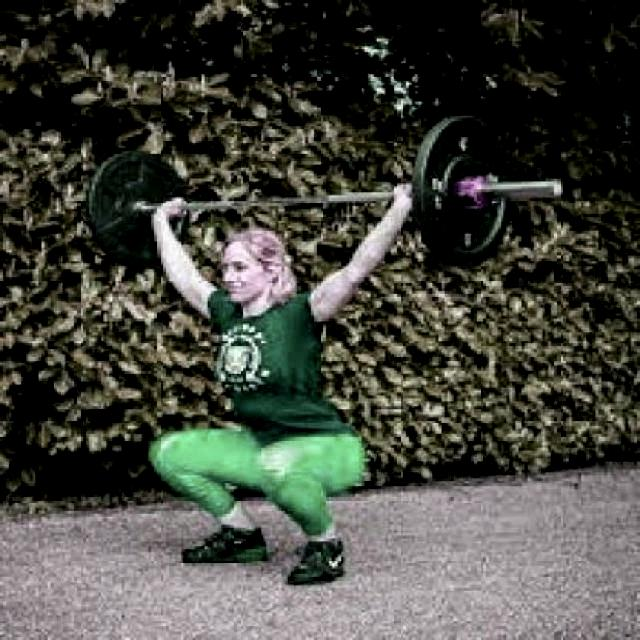barbell: (415, 113, 570, 270)
